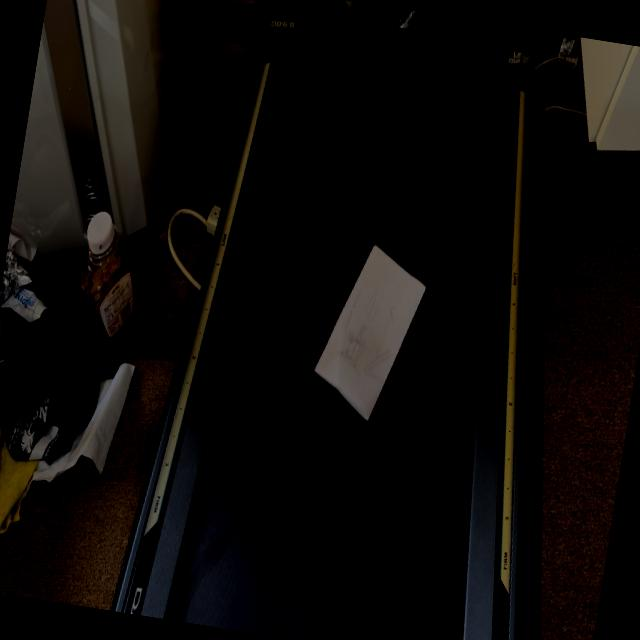Recycle: (304, 234, 434, 432)
